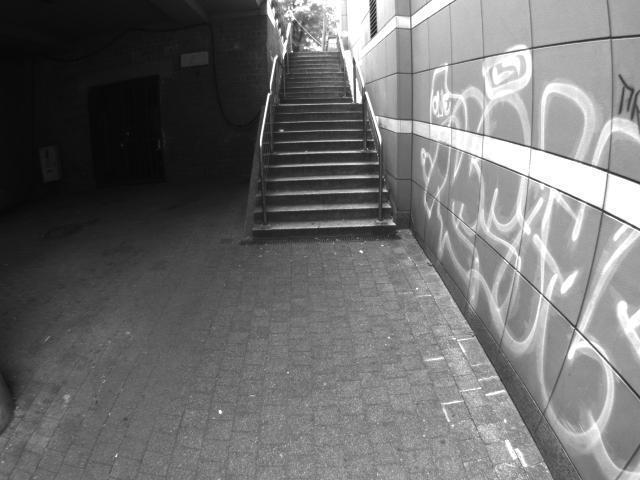Escaleras: (257, 104, 397, 237), (269, 45, 353, 104)
